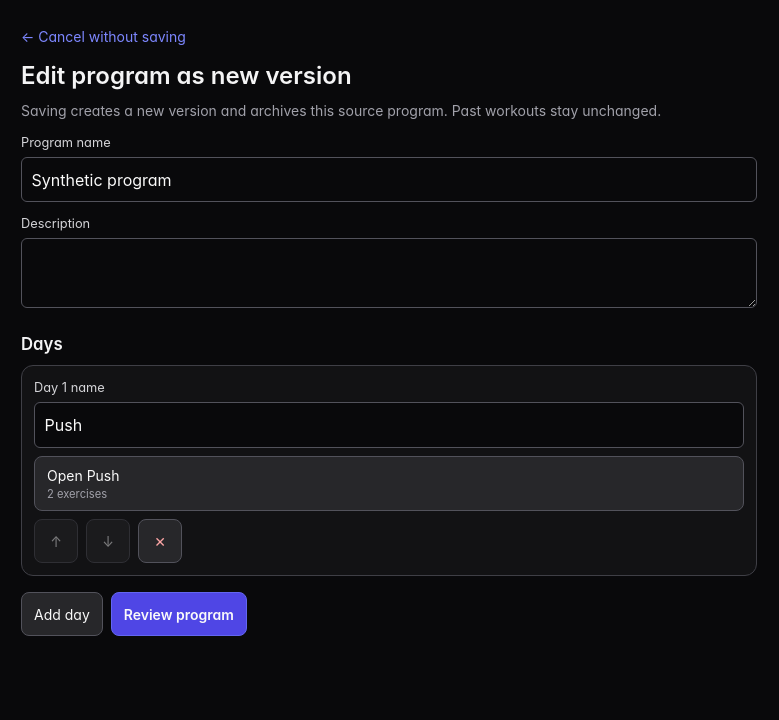
Test: keeps an oversized schema-valid draft editable and unsaveable (source 11111111-1111-4111-8111-111111111111)
Replace the text in the field labelled "Program name" with "  Keep all my edits  " at coordinates (389, 180), box left=21, top=157, right=757, bottom=202
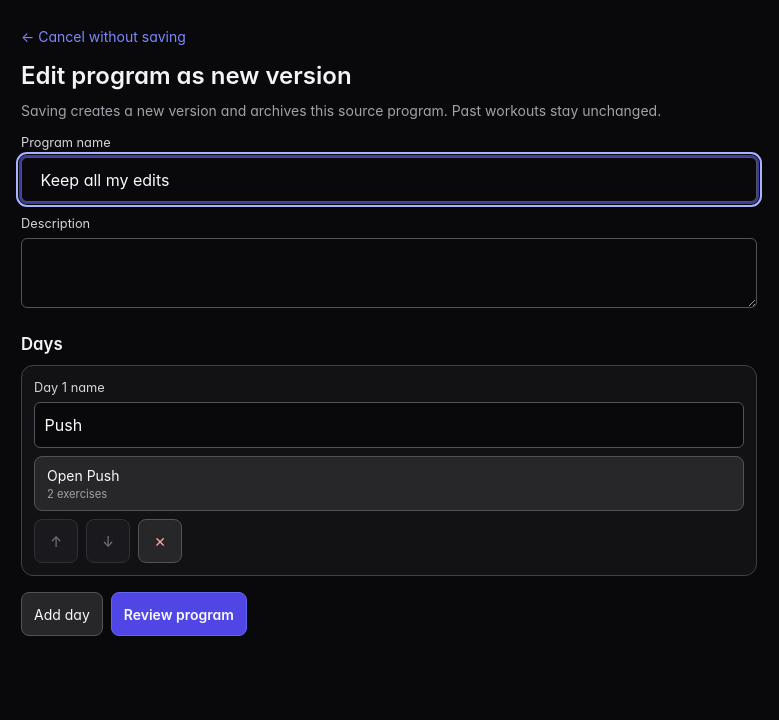
Click the button "Review program" at coordinates (179, 614), box left=111, top=592, right=247, bottom=636
(page scrolled)
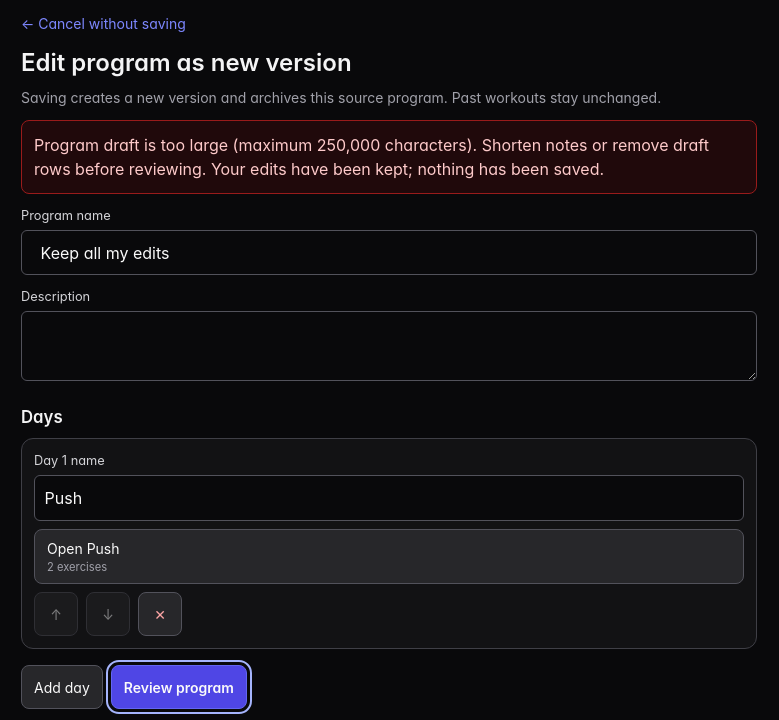
Submit the form
Click the button "Open Push 2 exercises" at coordinates (83, 548), box left=34, top=528, right=744, bottom=584
(page scrolled)
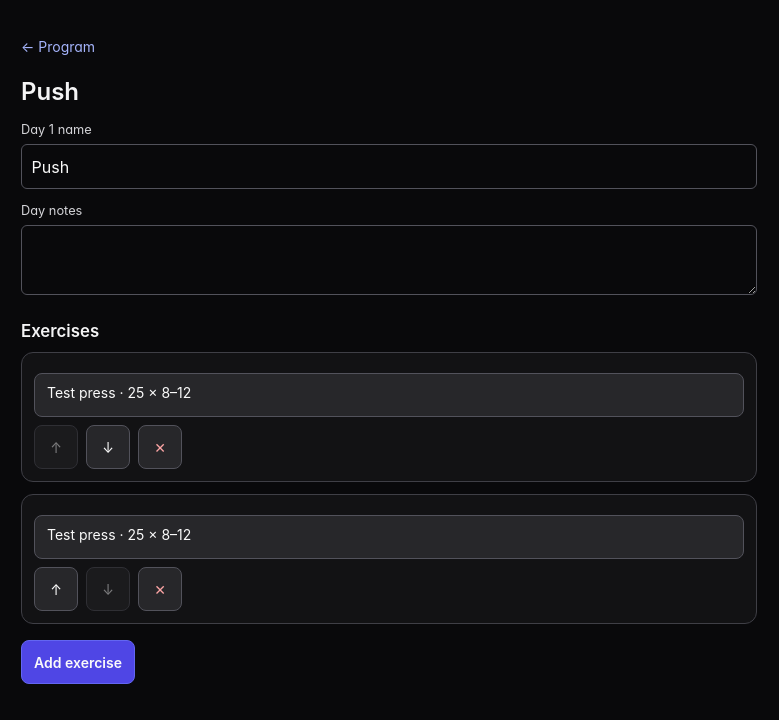
Click the 1st button "✕" at coordinates (160, 447), box left=138, top=425, right=182, bottom=469
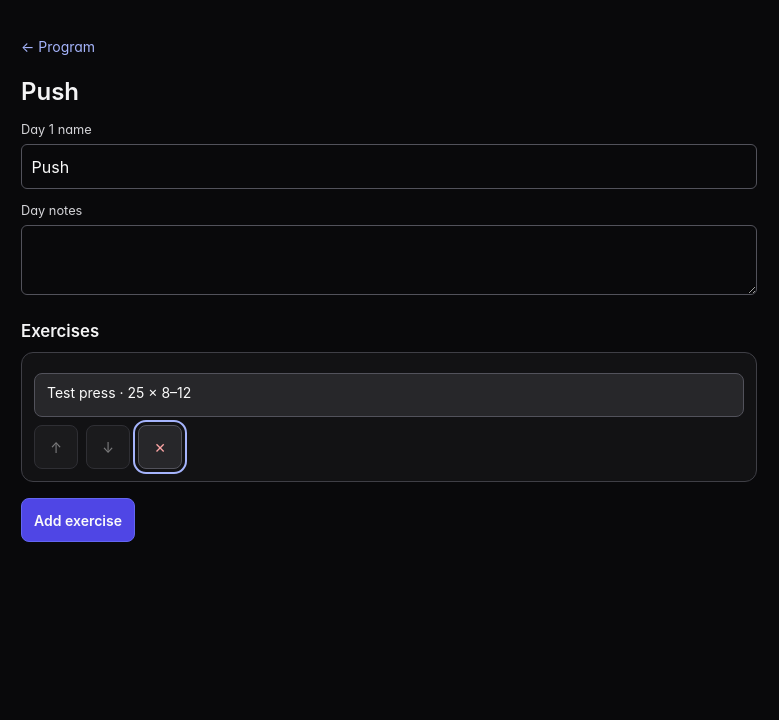
Click the button "← Program" at coordinates (58, 46), box left=21, top=24, right=95, bottom=68
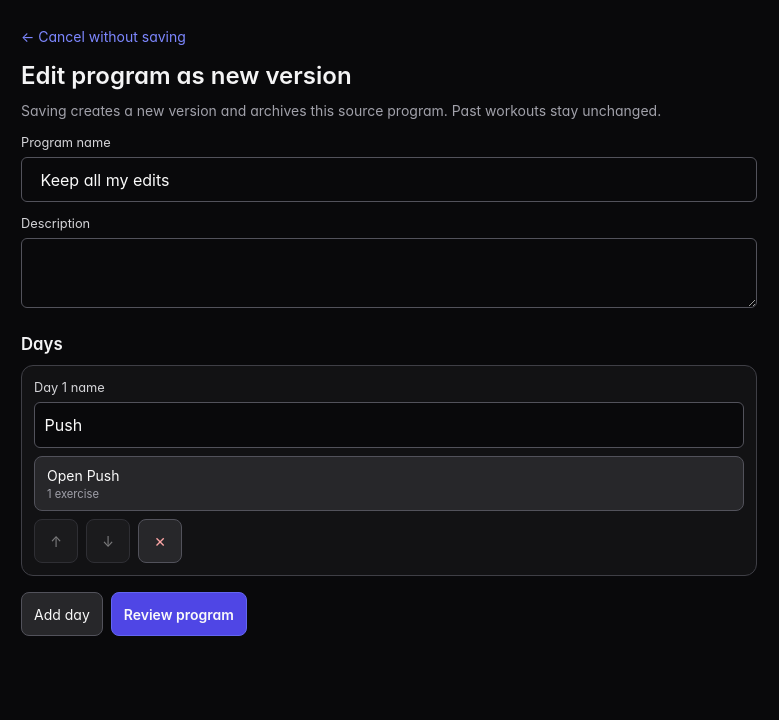
Click the button "Review program" at coordinates (179, 614), box left=111, top=592, right=247, bottom=636
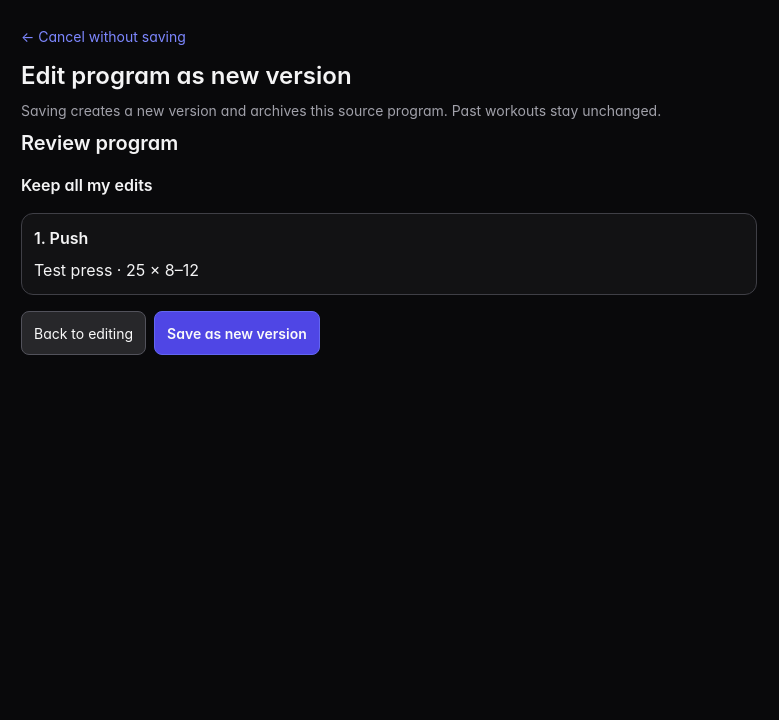
Expected: the button "Save as new version" is shown, left=154, top=311, right=320, bottom=355
